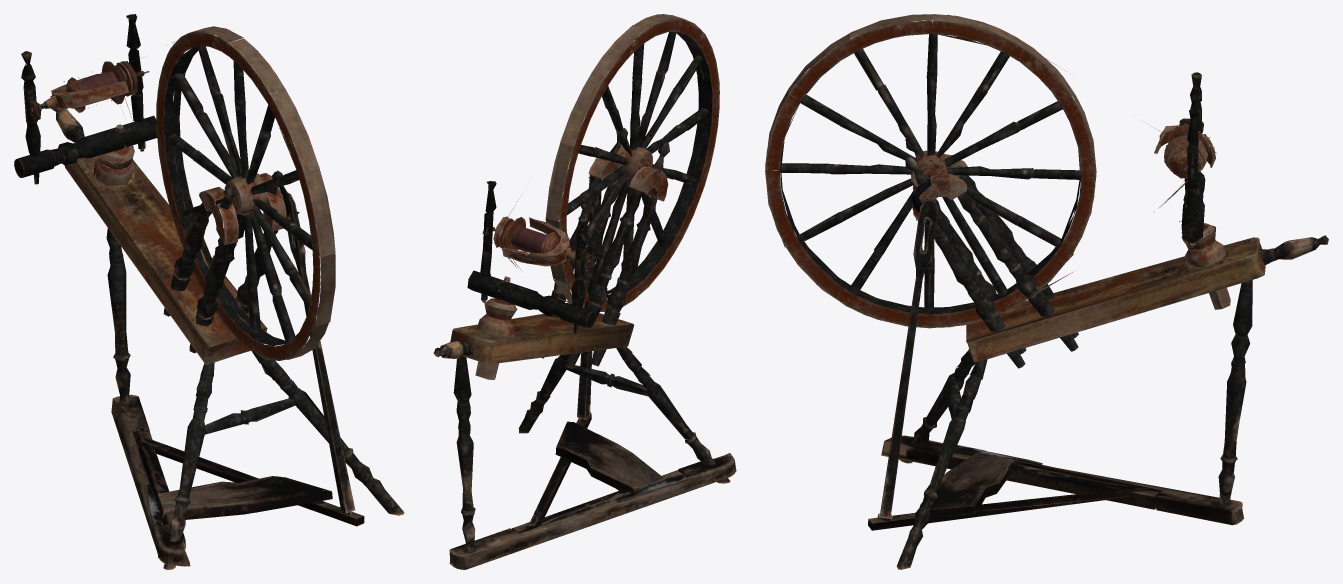
The model's file is spinning_wheel_01.glb.
The picture shows the model from 3 angles, left to right: view 1: azimuth 30°, elevation 25°; view 2: azimuth 150°, elevation 25°; view 3: azimuth 270°, elevation 25°; orthographic projection. The views are drawn at different scales.
Parts seen in each view (by area): view 1: spinning_wheel_01; view 2: spinning_wheel_01; view 3: spinning_wheel_01.
Part boxes in pixels (x1,y1,x2,y2): spinning_wheel_01: (14,14,404,569); spinning_wheel_01: (433,14,736,569); spinning_wheel_01: (765,14,1328,569).
Size of the model in its own units: 0.4896 by 0.9674 by 1.03.
1 material, 1 textured.
